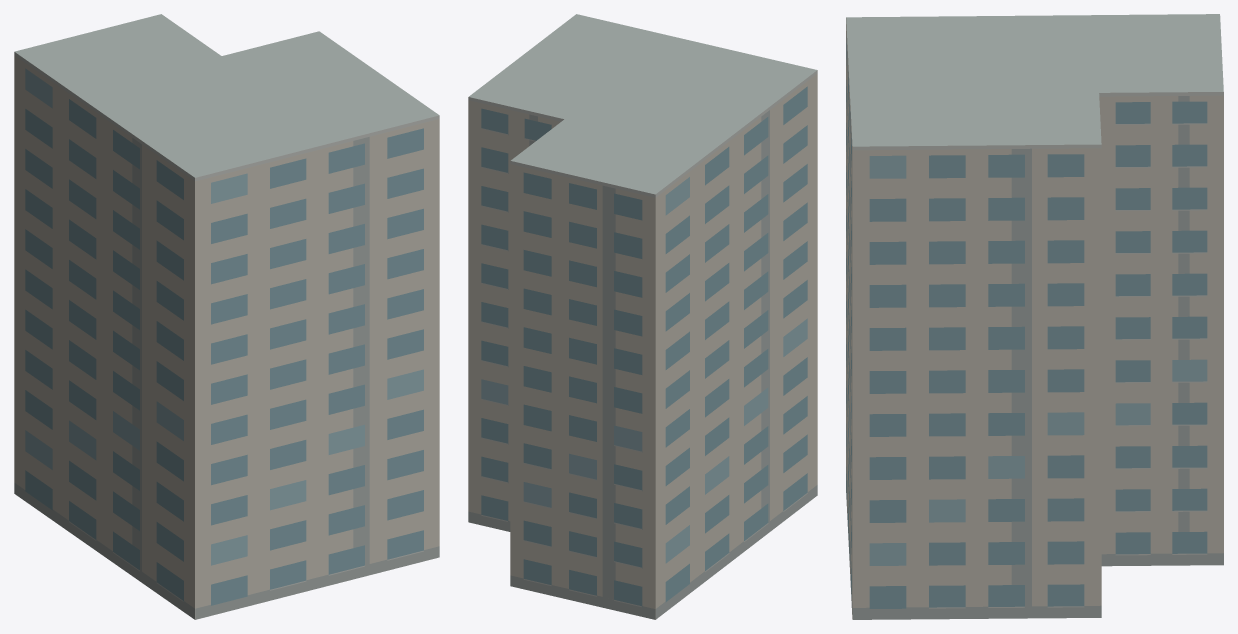
The model's file is residential-a1b80d38-3ef6-4d72-9b08-6783f8f89d15.glb.
The picture shows the model from 3 angles, left to right: view 1: azimuth 30°, elevation 25°; view 2: azimuth 150°, elevation 25°; view 3: azimuth 270°, elevation 25°; orthographic projection. The views are drawn at different scales.
Visible parts, largest first — view 1: residential-a1b80d38-3ef6-4d72-9b08-6783f8f89d15.tmp; view 2: residential-a1b80d38-3ef6-4d72-9b08-6783f8f89d15.tmp; view 3: residential-a1b80d38-3ef6-4d72-9b08-6783f8f89d15.tmp.
Part boxes in pixels (box(x1,y1,x2,y2)): residential-a1b80d38-3ef6-4d72-9b08-6783f8f89d15.tmp: box(14, 14, 439, 619); residential-a1b80d38-3ef6-4d72-9b08-6783f8f89d15.tmp: box(468, 14, 817, 619); residential-a1b80d38-3ef6-4d72-9b08-6783f8f89d15.tmp: box(846, 14, 1223, 619).
Size of the model in its own units: 18.64 by 31 by 22.43.
